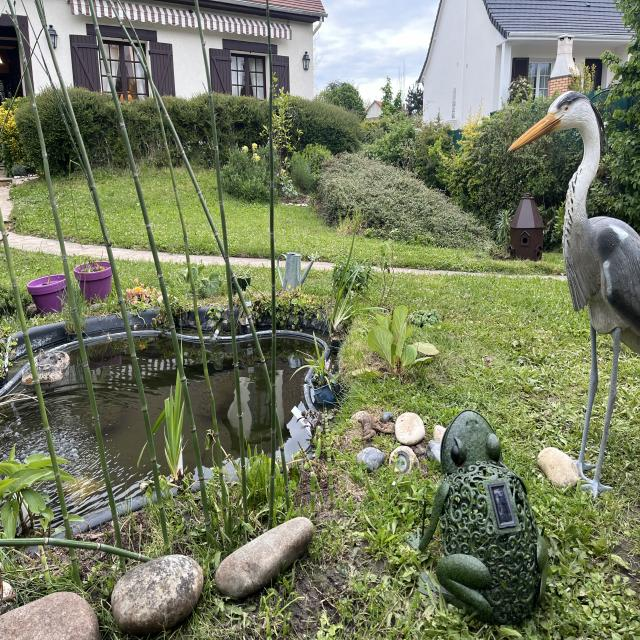Heron: (502, 77, 640, 507)
